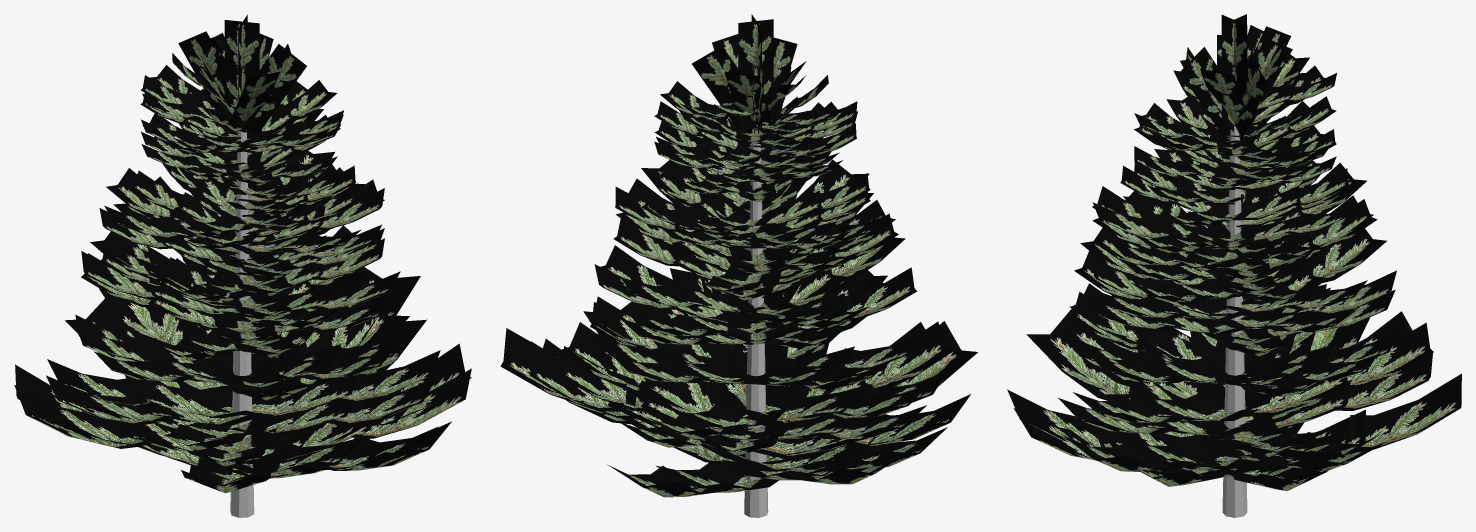
File: SmallPineTree.fbx
3 renders of one model, left to right at view 1: azimuth 30°, elevation 25°; view 2: azimuth 150°, elevation 25°; view 3: azimuth 270°, elevation 25°, orthographic.
Visible parts, largest first — view 1: SmallPineTwig.022, SmallPineTwig.018, SmallPineTwig.007, SmallPineTwig.012, SmallPineTwig.006, SmallPineTwig.019, SmallPineTwig.017, SmallPineTwig.015, Cylinder, SmallPineTwig.001, SmallPineTwig.025, SmallPineTwig.042 (+72 smaller); view 2: SmallPineTwig.025, SmallPineTwig.018, SmallPineTwig.008, SmallPineTwig.003, SmallPineTwig.006, Cylinder, SmallPineTwig.024, SmallPineTwig.021, SmallPineTwig.014, SmallPineTwig.013, SmallPineTwig.017, SmallPineTwig.029 (+69 smaller); view 3: SmallPineTwig.008, SmallPineTwig.017, SmallPineTwig.007, SmallPineTwig.022, SmallPineTwig.020, Cylinder, SmallPineTwig.009, SmallPineTwig.047, SmallPineTwig.033, SmallPineTwig.012, SmallPineTwig.046, SmallPineTwig.025 (+78 smaller).
Boxes of the visible parts, left/top/right/bottom form: SmallPineTwig.022: left=233, top=350, right=440, bottom=417; SmallPineTwig.018: left=47, top=359, right=254, bottom=418; SmallPineTwig.007: left=247, top=368, right=471, bottom=462; SmallPineTwig.012: left=228, top=426, right=438, bottom=474; SmallPineTwig.006: left=26, top=392, right=194, bottom=452; SmallPineTwig.019: left=228, top=377, right=436, bottom=435; SmallPineTwig.017: left=99, top=288, right=230, bottom=412; SmallPineTwig.015: left=61, top=383, right=259, bottom=425; Cylinder: left=230, top=130, right=254, bottom=517; SmallPineTwig.001: left=224, top=20, right=259, bottom=126; SmallPineTwig.025: left=268, top=300, right=409, bottom=426; SmallPineTwig.042: left=81, top=251, right=244, bottom=316; SmallPineTwig.025: left=559, top=322, right=752, bottom=430; SmallPineTwig.018: left=734, top=384, right=929, bottom=420; SmallPineTwig.008: left=607, top=458, right=778, bottom=497; SmallPineTwig.003: left=728, top=427, right=947, bottom=472; SmallPineTwig.006: left=753, top=394, right=970, bottom=456; Cylinder: left=744, top=128, right=768, bottom=517; SmallPineTwig.024: left=763, top=321, right=954, bottom=425; SmallPineTwig.021: left=739, top=405, right=926, bottom=439; SmallPineTwig.014: left=558, top=346, right=680, bottom=420; SmallPineTwig.013: left=530, top=341, right=716, bottom=448; SmallPineTwig.017: left=645, top=400, right=788, bottom=438; SmallPineTwig.029: left=610, top=353, right=774, bottom=383; SmallPineTwig.008: left=1234, top=373, right=1461, bottom=479; SmallPineTwig.017: left=1244, top=322, right=1433, bottom=416; SmallPineTwig.007: left=1062, top=435, right=1253, bottom=471; SmallPineTwig.022: left=1073, top=388, right=1260, bottom=422; SmallPineTwig.020: left=1232, top=353, right=1432, bottom=432; Cylinder: left=1222, top=126, right=1247, bottom=517; SmallPineTwig.009: left=1026, top=309, right=1225, bottom=462; SmallPineTwig.047: left=1239, top=228, right=1386, bottom=320; SmallPineTwig.033: left=1067, top=291, right=1233, bottom=377; SmallPineTwig.012: left=1007, top=389, right=1247, bottom=467; SmallPineTwig.046: left=1092, top=289, right=1252, bottom=319; SmallPineTwig.025: left=1201, top=415, right=1310, bottom=456.
Bounding box in the file's own units: 224 × 255 × 213.
